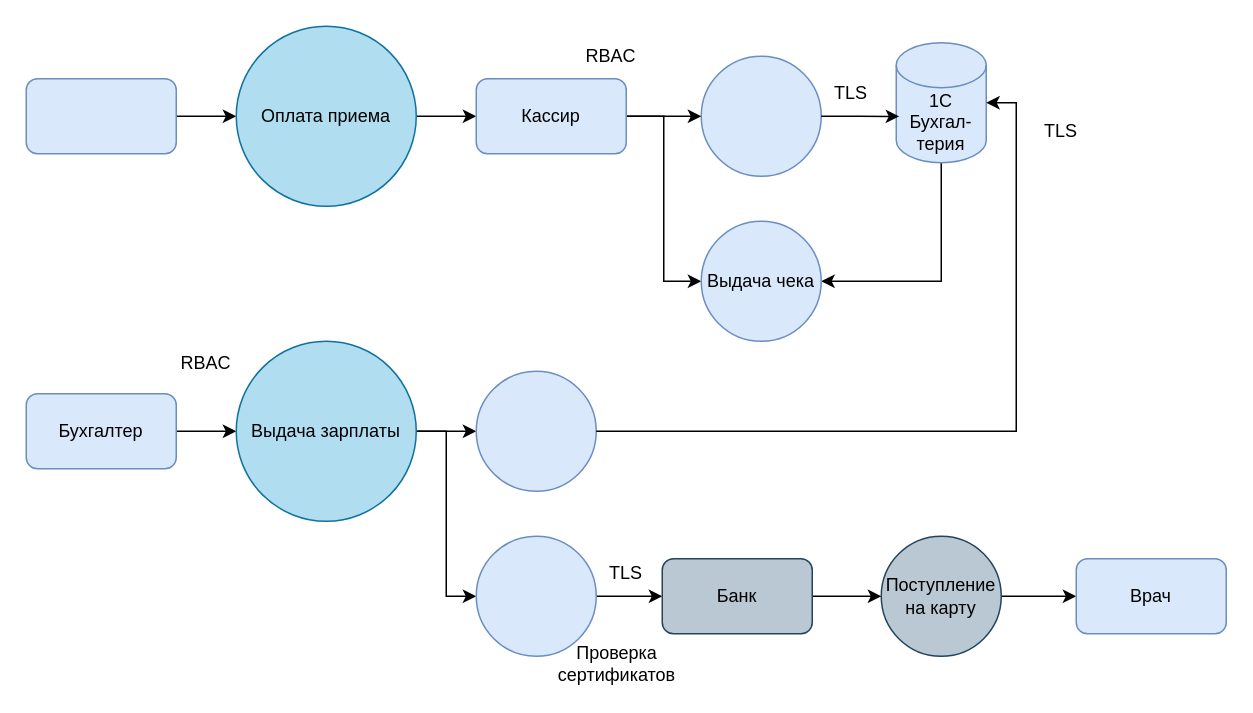
Image size: 1253x713. Some labels were removed from this diagram. The centre of each missing label's shape, as x and y in pixels:
"Оплата" belongs at [760,115].
"Пациент" belongs at [100,115].
"Перевод через банк" belongs at [535,595].
"Подсчет зарплаты" belongs at [535,430].
